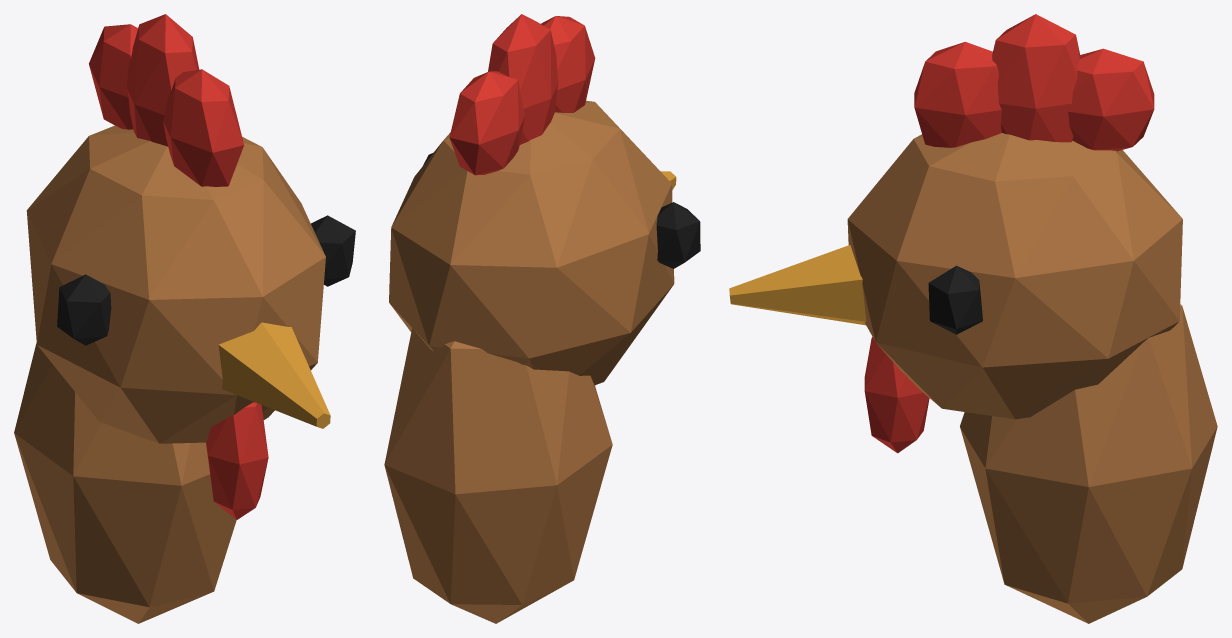
File: chicken_1_head.glb
The picture shows the model from 3 angles, left to right: view 1: azimuth 30°, elevation 25°; view 2: azimuth 150°, elevation 25°; view 3: azimuth 270°, elevation 25°; orthographic projection. The views are drawn at different scales.
Parts seen in each view (by area): view 1: chicken_1_head; view 2: chicken_1_head; view 3: chicken_1_head.
Boxes of the visible parts, bbox=[...] form: chicken_1_head: bbox=[14, 14, 355, 623]; chicken_1_head: bbox=[384, 14, 700, 623]; chicken_1_head: bbox=[729, 14, 1217, 623].
Bounding box in the file's own units: 0.1106 × 0.229 × 0.1662.
